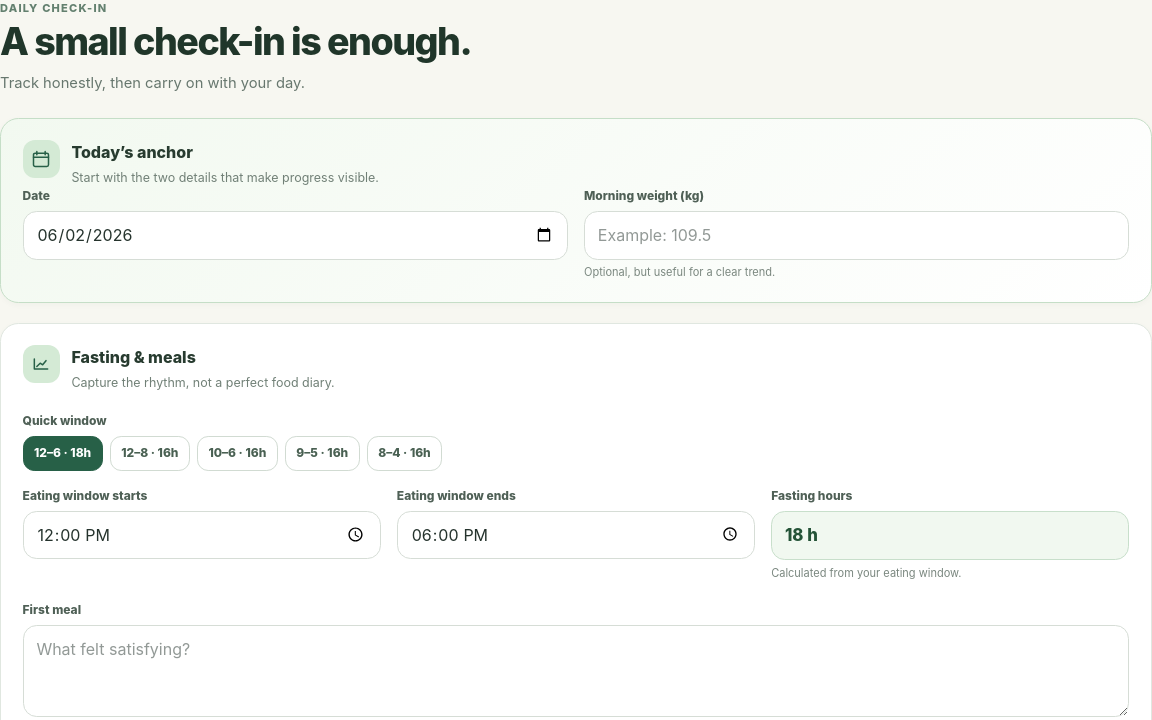
CheckIn › blocks saving an invalid eating window
Replace the text in the time field labelled "Eating window ends" with "12:00" at (576, 535), box [397, 511, 755, 559]
(page scrolled)
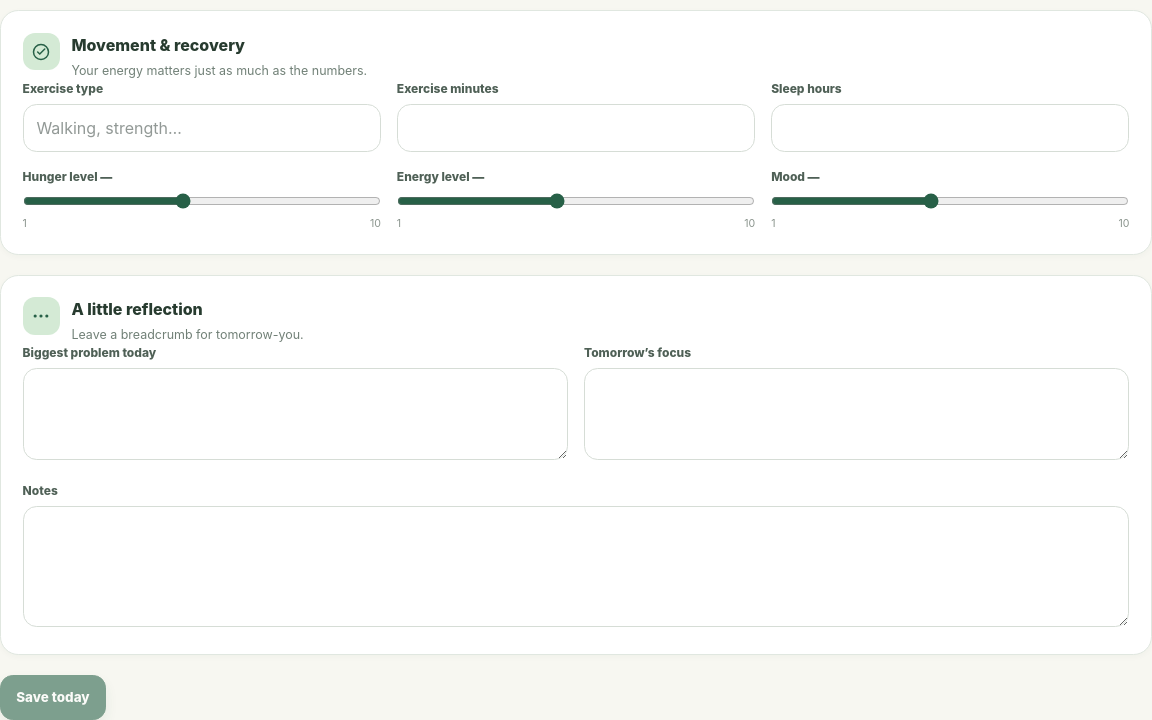
Check: the button "Save today" is disabled, box [0, 675, 106, 719]
